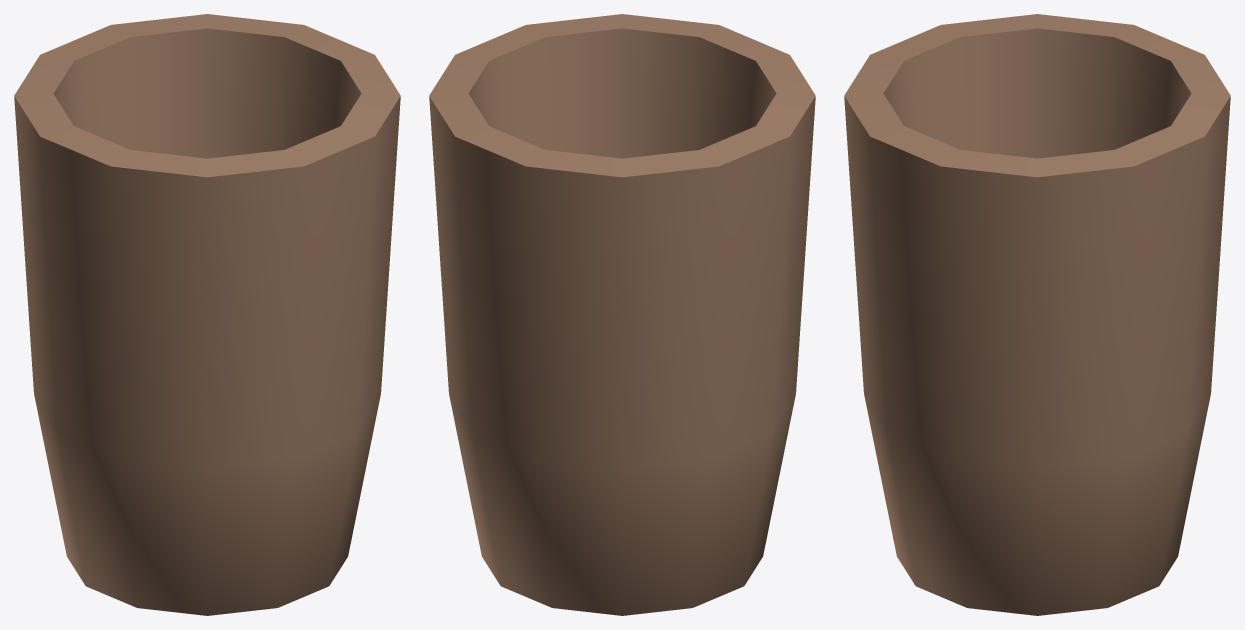
File: Cup_B.fbx
3 views of the same model, side by side, from view 1: azimuth 30°, elevation 25°; view 2: azimuth 150°, elevation 25°; view 3: azimuth 270°, elevation 25° (orthographic).
Parts seen in each view (by area): view 1: Cup_B; view 2: Cup_B; view 3: Cup_B.
Part boxes in pixels (<box>): Cup_B: <box>14,14,400,615</box>; Cup_B: <box>429,14,815,615</box>; Cup_B: <box>844,14,1230,615</box>.
Size of the model in its own units: 17.75 by 23.45 by 17.75.
